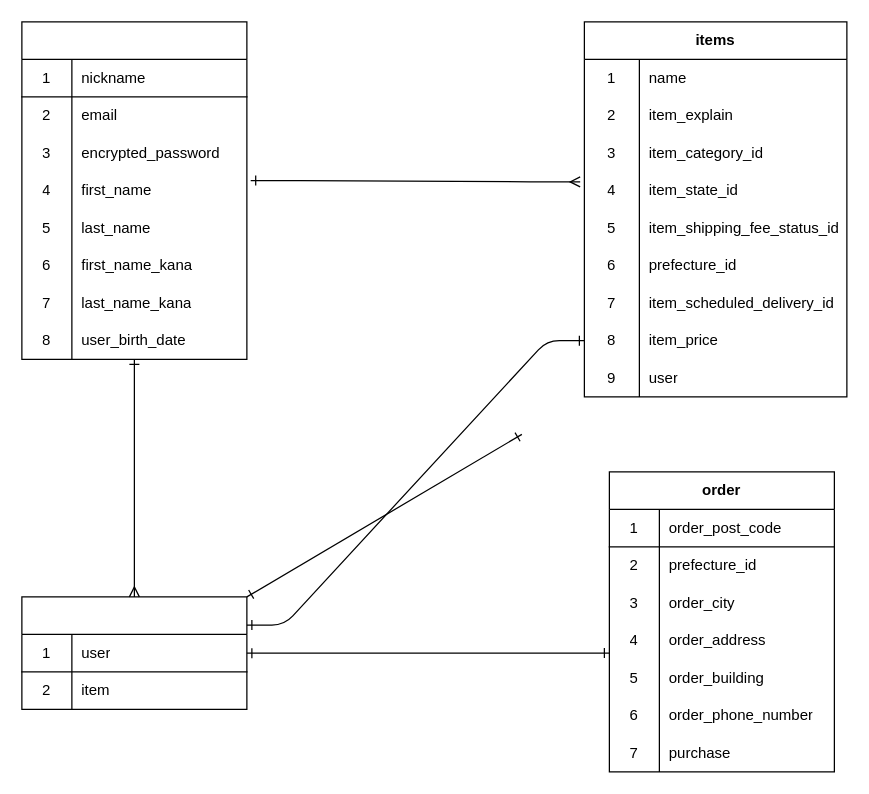
The diagram is 869 pixels wide and 794 high, and some of its shapes have lost their labels. Each missing label, with the box of its shape:
purchases: (21, 596, 247, 709)
users: (21, 21, 247, 359)
